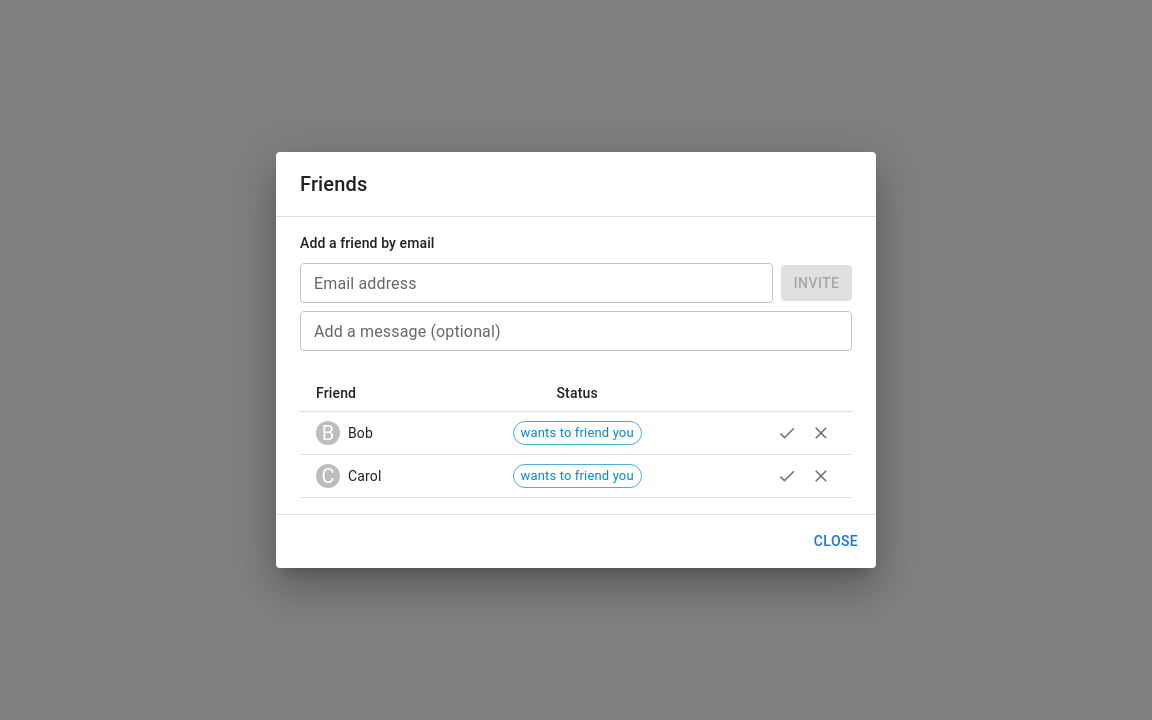
FriendsDialog › accepts an incoming pending request and leaves siblings untouched
The image size is (1152, 720).
Click the button named "accept bob" at (787, 433), box [772,418,802,448]
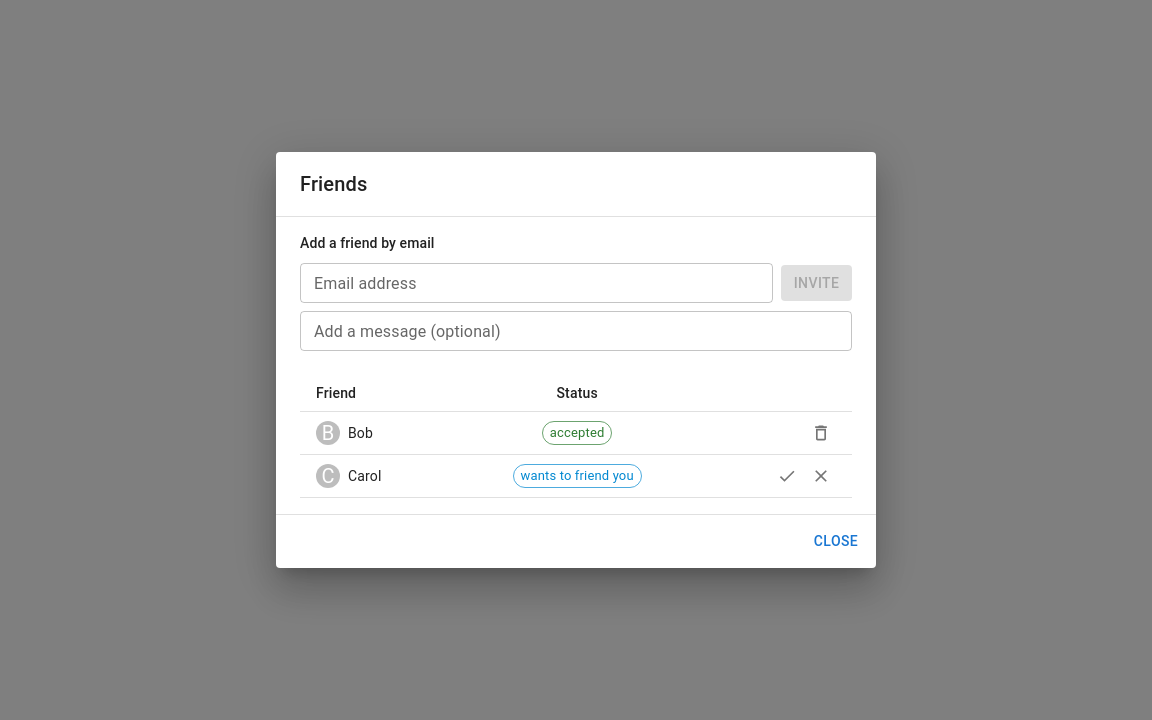
Expected: the button named "accept carol" is shown, [772,461,802,491]
Expected: the text "accepted" is shown, [550,425,604,440]
